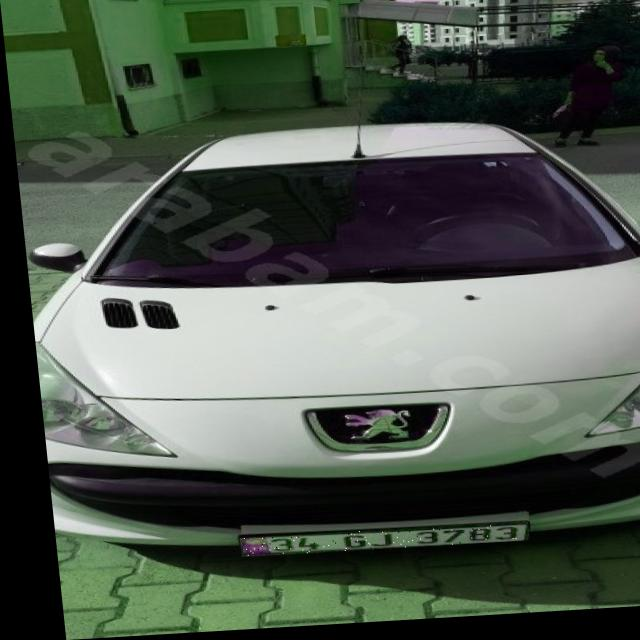license_plate: (228, 527, 517, 559)
